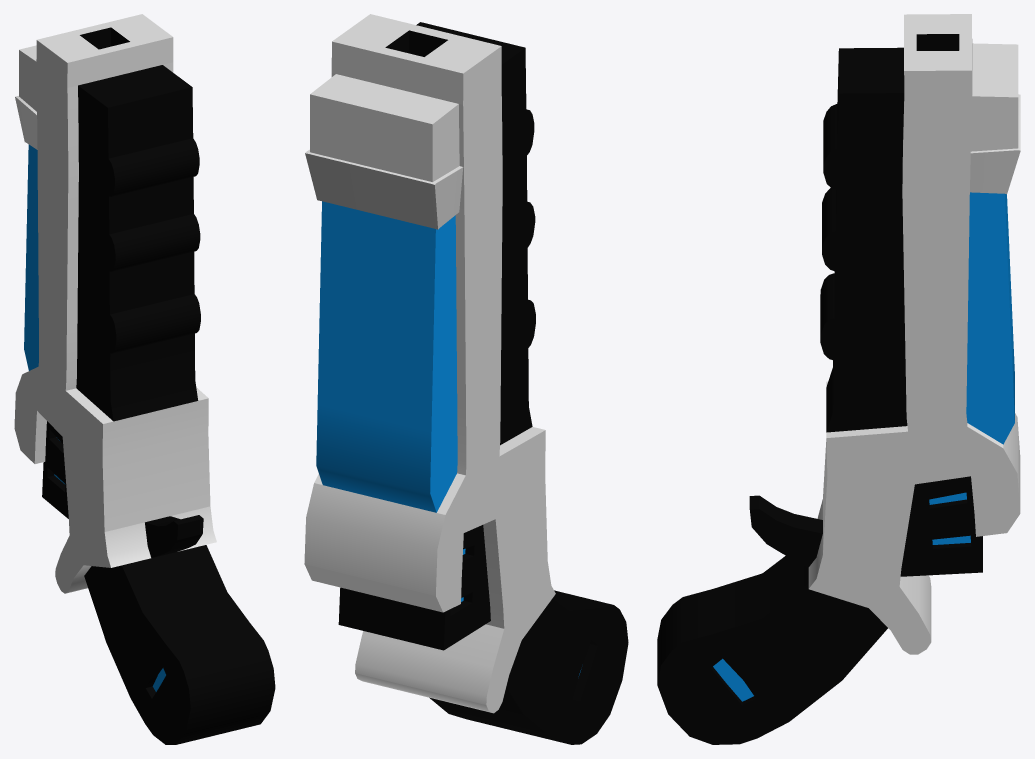
Rendered from Revolver.fbx.
3 renders of one model, left to right at view 1: azimuth 30°, elevation 25°; view 2: azimuth 150°, elevation 25°; view 3: azimuth 270°, elevation 25°, orthographic. The views are drawn at different scales.
Visible parts, largest first — view 1: Revolver; view 2: Revolver; view 3: Revolver.
Part boxes in pixels (box(x1,y1,x2,y2)): Revolver: box(14, 14, 275, 744); Revolver: box(304, 14, 628, 744); Revolver: box(657, 14, 1020, 744).
Size of the model in its own units: 22.5 by 126 by 61.12.
